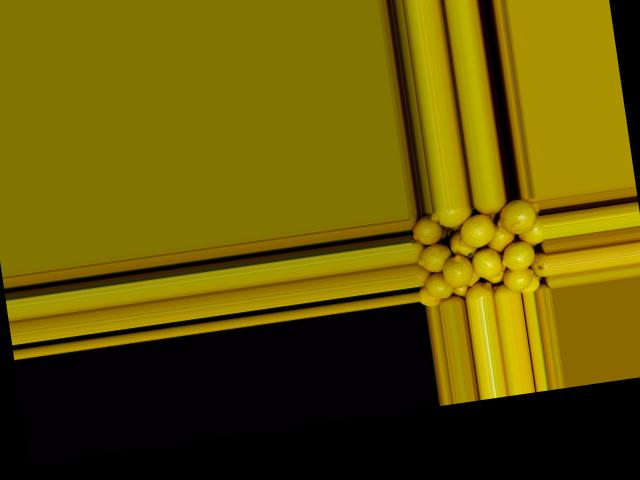lemon: (426, 204, 472, 229)
